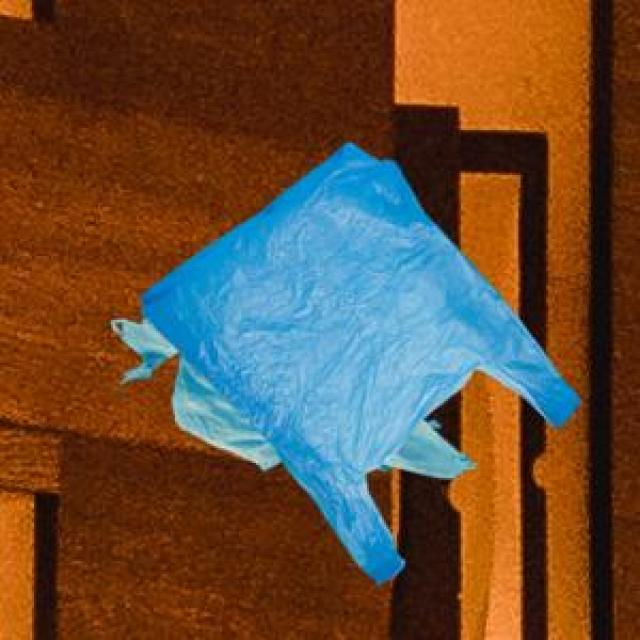plastic: (88, 106, 600, 568)
